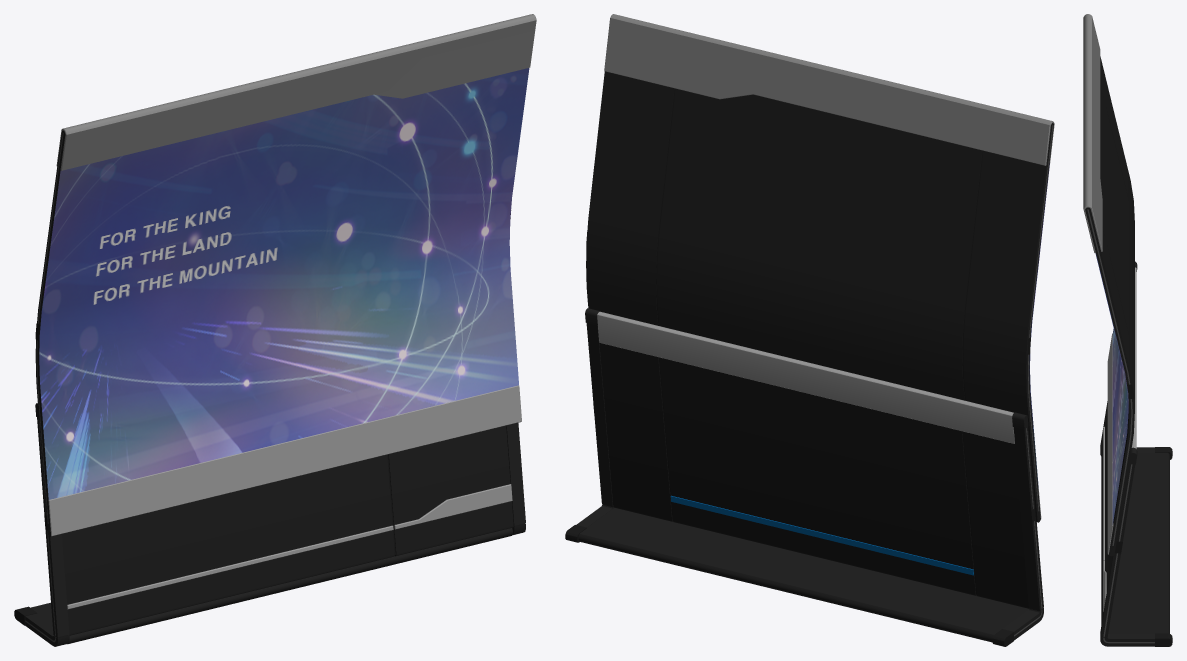
File: W_O_Wall_002_L0.fbx
The picture shows the model from 3 angles, left to right: view 1: azimuth 30°, elevation 25°; view 2: azimuth 150°, elevation 25°; view 3: azimuth 270°, elevation 25°; orthographic projection. The views are drawn at different scales.
Visible parts, largest first — view 1: W_O_Wall_002_L0; view 2: W_O_Wall_002_L0; view 3: W_O_Wall_002_L0.
Part boxes in pixels (x1,y1,x2,y2): W_O_Wall_002_L0: (14, 14, 536, 646); W_O_Wall_002_L0: (565, 14, 1054, 646); W_O_Wall_002_L0: (1083, 14, 1172, 646).
Bounding box in the file's own units: 5.03 × 5.37 × 0.9828.
